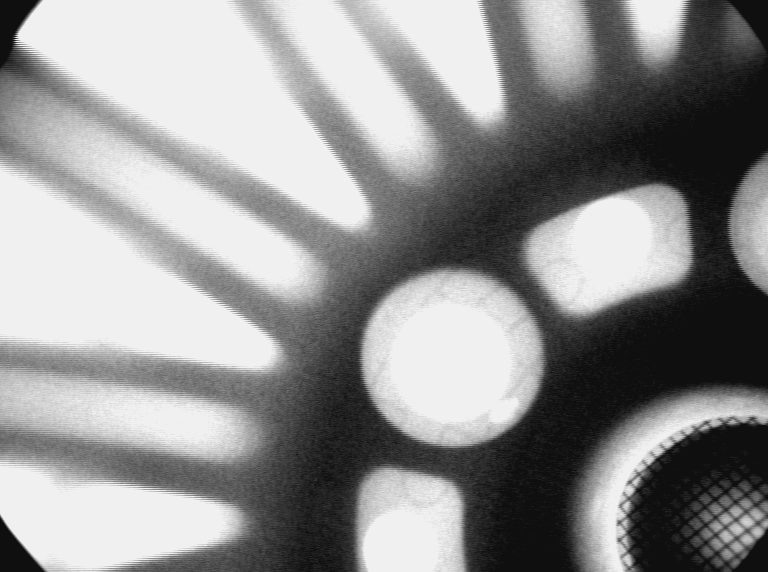defect: (487, 394, 523, 428)
